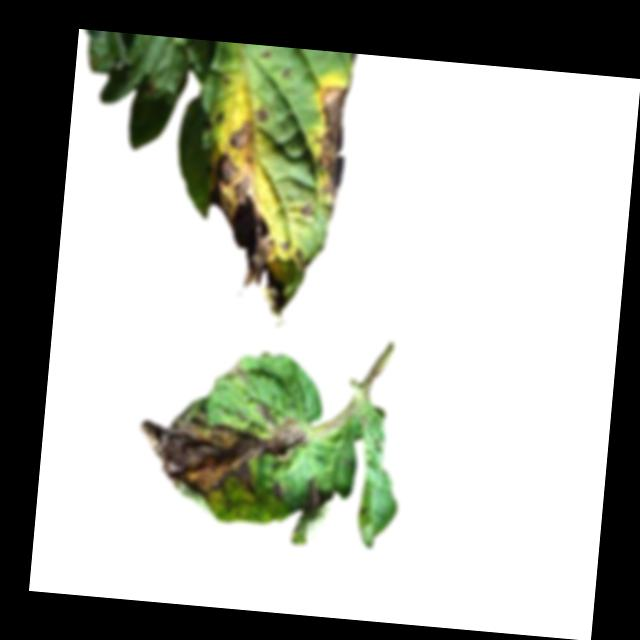Early_blight: (130, 393, 310, 505), (193, 150, 297, 327), (311, 85, 349, 198), (225, 120, 255, 153), (302, 478, 325, 519), (227, 361, 247, 387), (291, 248, 310, 274), (254, 107, 270, 122), (212, 111, 226, 126), (301, 204, 313, 220)
